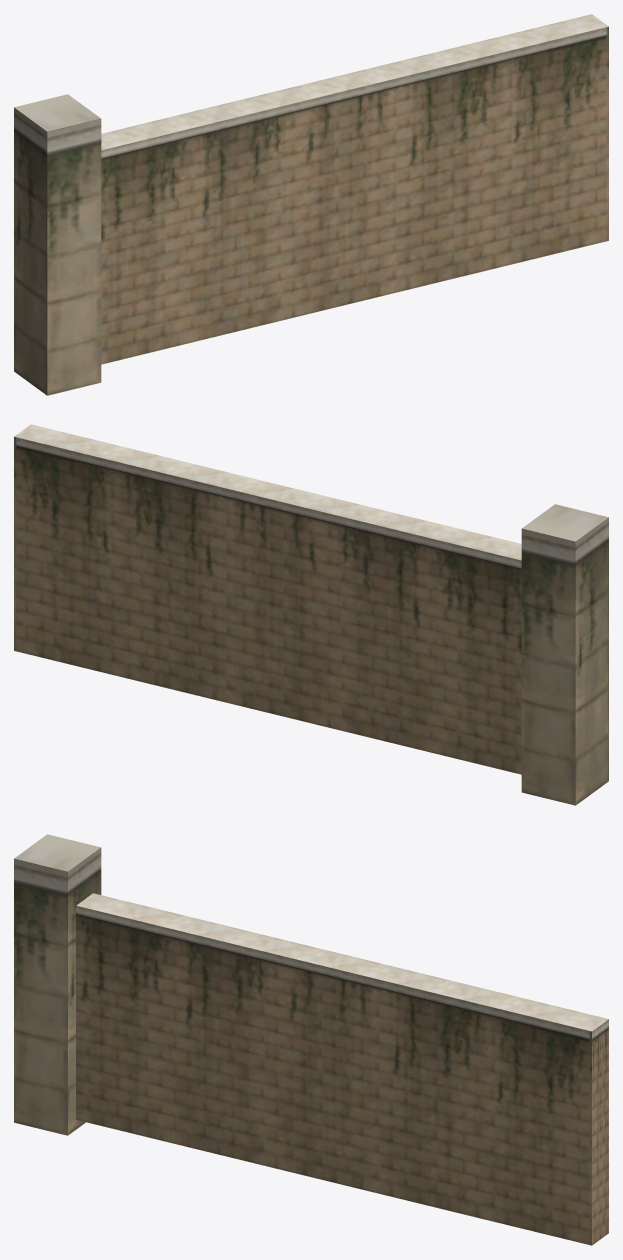
File: thm_nboo_thed_imprv_wall_s01_a1_l2.fbx
3 views of the same model, one above another, from view 1: azimuth 30°, elevation 25°; view 2: azimuth 150°, elevation 25°; view 3: azimuth 330°, elevation 25° (orthographic).
Visible parts, largest first — view 1: mesh_node; view 2: mesh_node; view 3: mesh_node.
Part boxes in pixels (x1,y1,x2,y2): mesh_node: (14,14,608,395); mesh_node: (14,424,608,805); mesh_node: (14,834,608,1245).
Size of the model in its own units: 21.46 by 9.5 by 2.17.
